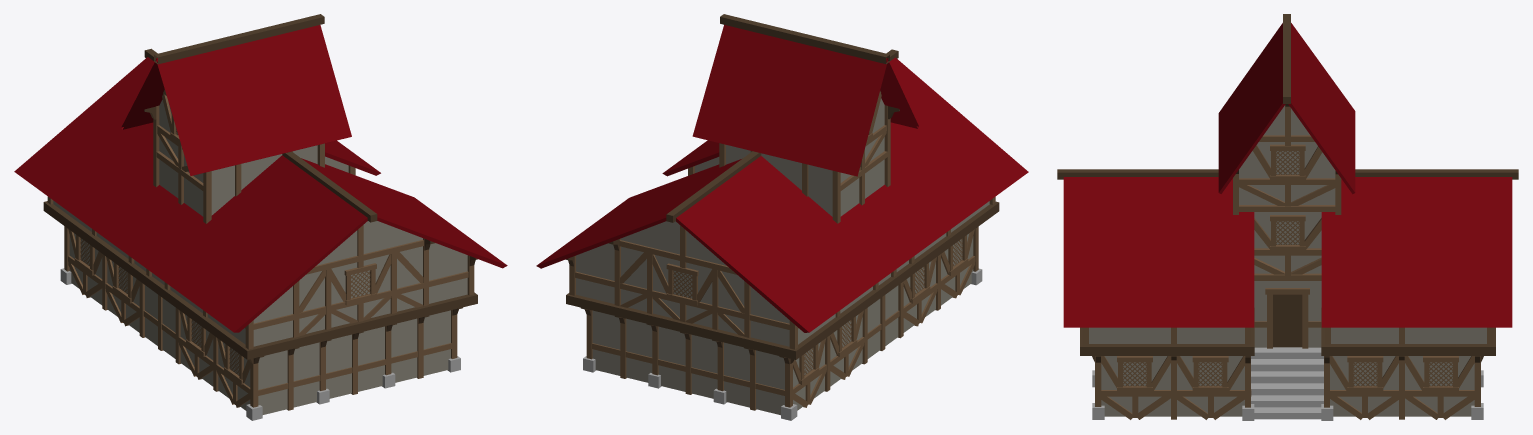
File: M_Barrack.fbx
The picture shows the model from 3 angles, left to right: view 1: azimuth 30°, elevation 25°; view 2: azimuth 150°, elevation 25°; view 3: azimuth 270°, elevation 25°; orthographic projection. The views are drawn at different scales.
Visible parts, largest first — view 1: Toit, pCube182, pPlane9, polySurface23, polySurface53, pCube184, Poutre_toit_1, pCube235, pCube87, polySurface41, Poutre_toit, polySurface24 (+5 smaller); view 2: Toit, pCube182, pPlane9, polySurface23, polySurface53, pCube184, Poutre_toit_1, pCube235, polySurface41, pCube87, Poutre_toit, polySurface24 (+5 smaller); view 3: Toit, polySurface41, polySurface53, pCube184, polySurface58, Poutre_toit, pPlane10, pPlane11, polySurface1, pCube236, Door_high, pCube226 (+8 smaller).
Boxes of the visible parts, x1=… form: Toit: x1=14, y1=25, x2=507, y2=332; pCube182: x1=60, y1=226, x2=262, y2=420; pPlane9: x1=253, y1=221, x2=467, y2=346; polySurface23: x1=258, y1=310, x2=450, y2=414; polySurface53: x1=144, y1=89, x2=324, y2=223; pCube184: x1=43, y1=201, x2=477, y2=359; Poutre_toit_1: x1=154, y1=14, x2=324, y2=64; pCube235: x1=331, y1=254, x2=391, y2=323; pCube87: x1=253, y1=271, x2=468, y2=329; polySurface41: x1=385, y1=310, x2=460, y2=378; Poutre_toit: x1=144, y1=48, x2=377, y2=222; polySurface24: x1=258, y1=343, x2=451, y2=395; Toit: x1=536, y1=25, x2=1028, y2=332; pCube182: x1=781, y1=227, x2=982, y2=420; pPlane9: x1=576, y1=221, x2=789, y2=346; polySurface23: x1=592, y1=310, x2=784, y2=415; polySurface53: x1=719, y1=91, x2=899, y2=223; pCube184: x1=566, y1=201, x2=999, y2=359; Poutre_toit_1: x1=720, y1=14, x2=889, y2=64; pCube235: x1=652, y1=254, x2=712, y2=323; polySurface41: x1=583, y1=310, x2=661, y2=388; pCube87: x1=575, y1=271, x2=789, y2=329; Poutre_toit: x1=666, y1=49, x2=898, y2=222; polySurface24: x1=592, y1=343, x2=784, y2=395; Toit: x1=1063, y1=23, x2=1512, y2=327; polySurface41: x1=1092, y1=356, x2=1483, y2=419; polySurface53: x1=1233, y1=104, x2=1341, y2=273; pCube184: x1=1080, y1=308, x2=1495, y2=355; polySurface58: x1=1123, y1=151, x2=1452, y2=386; Poutre_toit: x1=1057, y1=169, x2=1518, y2=179; pPlane10: x1=1331, y1=327, x2=1486, y2=343; pPlane11: x1=1089, y1=327, x2=1244, y2=343; polySurface1: x1=1254, y1=281, x2=1321, y2=347; pCube236: x1=1254, y1=215, x2=1321, y2=274; Door_high: x1=1273, y1=294, x2=1302, y2=347; pCube226: x1=1251, y1=359, x2=1323, y2=371.
Size of the model in its own units: 10.62 by 10.99 by 15.15.
